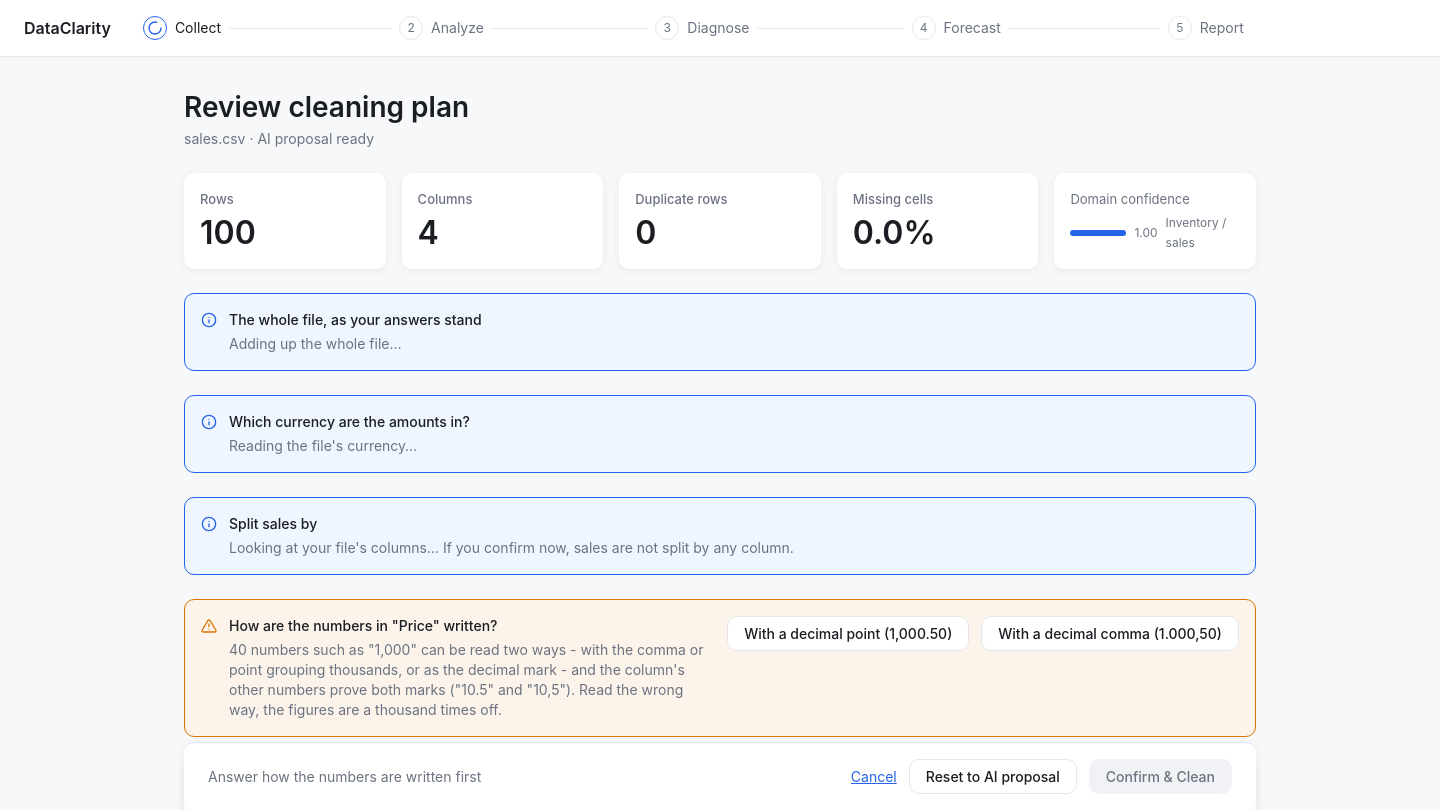
Test: ReviewPage: how the numbers are written › when the column proves both marks, the answer reads only the two-way numbers (review 2, N7)
Click the button "With a decimal comma (1.000,50)" at (1110, 634), box 981,616 -> 1239,651
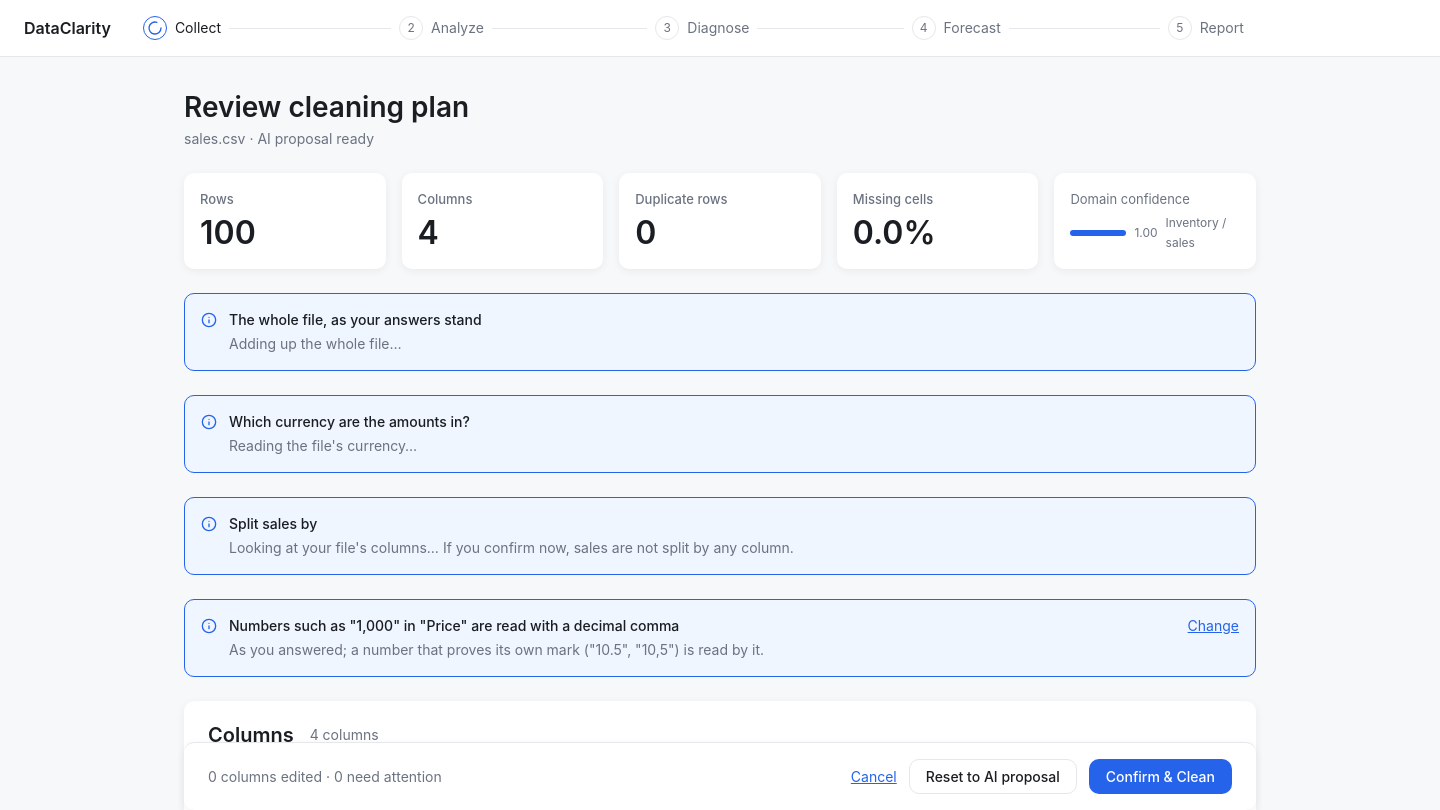
Result: the text "Numbers such as \"1,000\" in \"Price\" are read with a decimal comma" is shown at 229,617 -> 679,634
Result: the text "As you answered; a number that proves its own mark (\"10.5\", \"10,5\") is read by it." is shown at 229,641 -> 764,658
